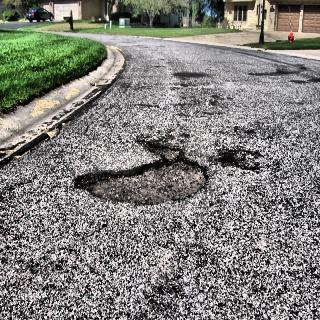pothole: (72, 138, 212, 217), (215, 148, 240, 179), (173, 65, 211, 82)
